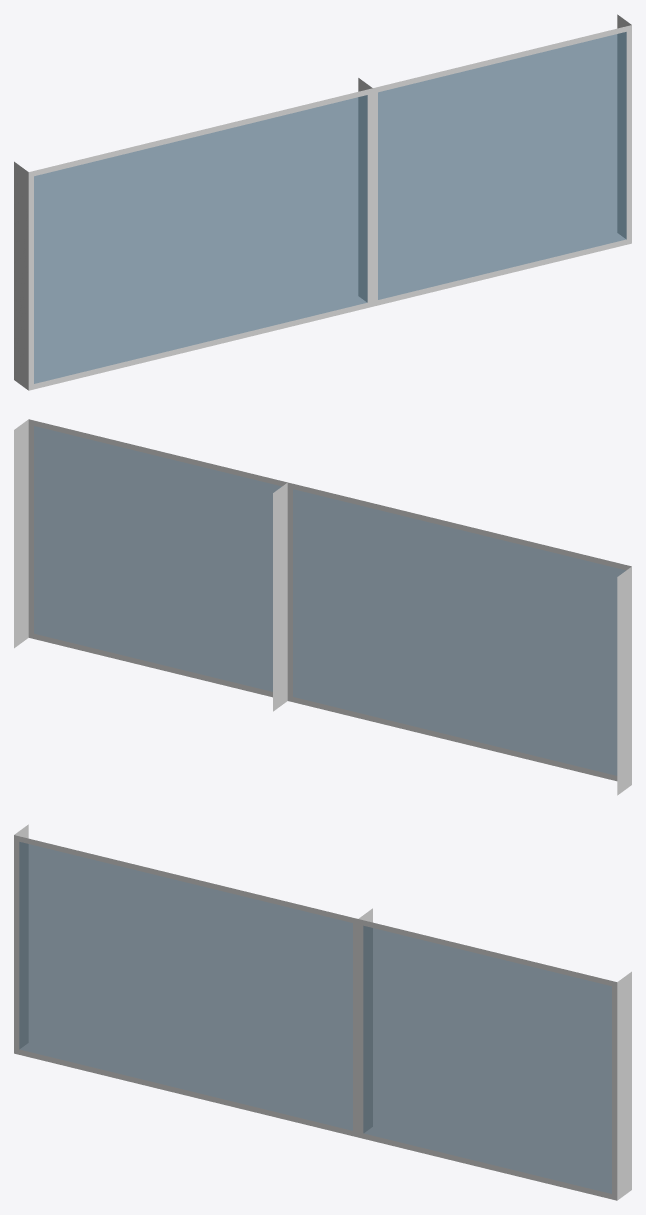
Rendered from entrance-window-i209a.fbx.
3 renders of one model, top to bottom at view 1: azimuth 30°, elevation 25°; view 2: azimuth 150°, elevation 25°; view 3: azimuth 330°, elevation 25°, orthographic.
Parts seen in each view (by area): view 1: i209a-entrance-enter-glas; view 2: i209a-entrance-enter-glas; view 3: i209a-entrance-enter-glas.
Boxes of the visible parts, <box> form: i209a-entrance-enter-glas: <box>14,14,631,390</box>; i209a-entrance-enter-glas: <box>14,419,631,795</box>; i209a-entrance-enter-glas: <box>14,824,631,1200</box>.
Size of the model in its own units: 237 by 81.88 by 10.
